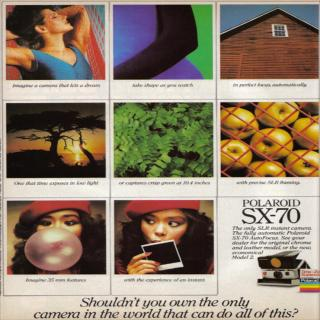Apple: (219, 100, 319, 177), (250, 128, 292, 159)
